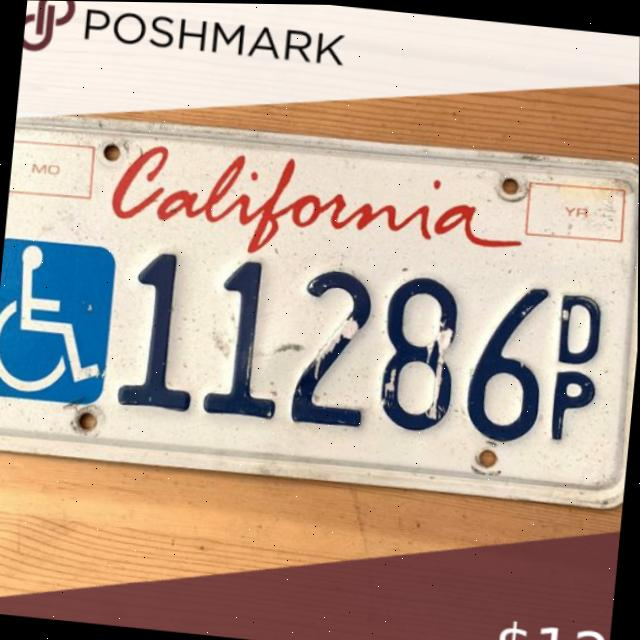symbol_of_access: (0, 237, 114, 403)
